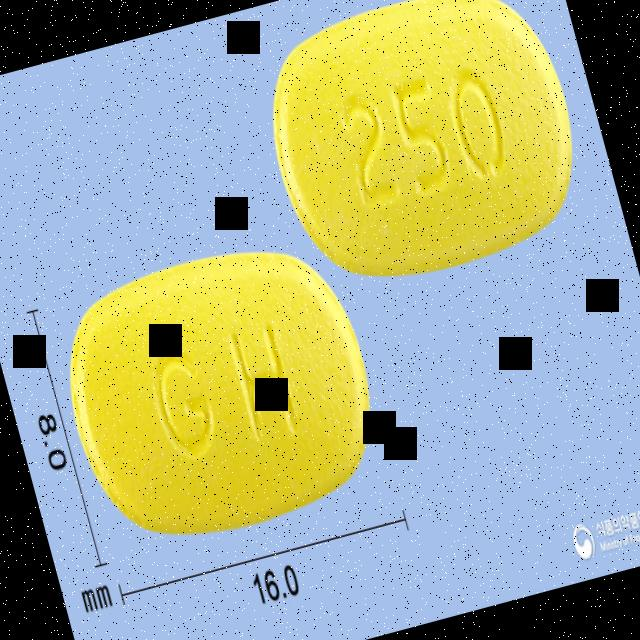Clana: (37, 216, 404, 569), (243, 0, 603, 310)
